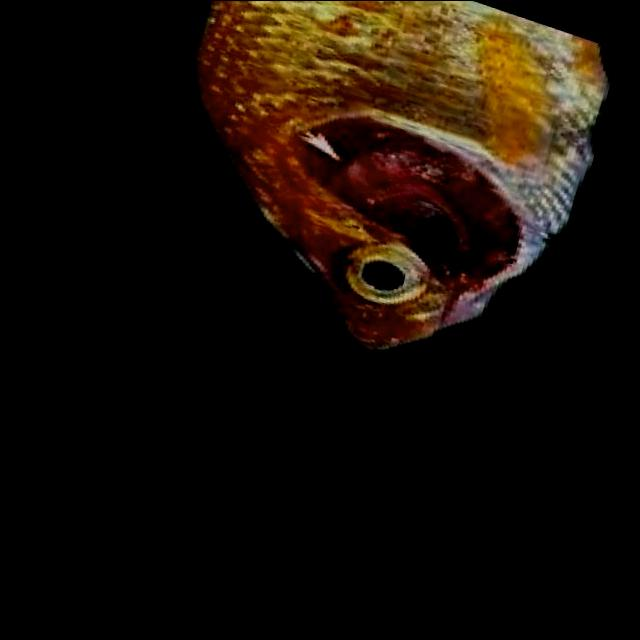Gill Disease: (205, 3, 608, 355)
